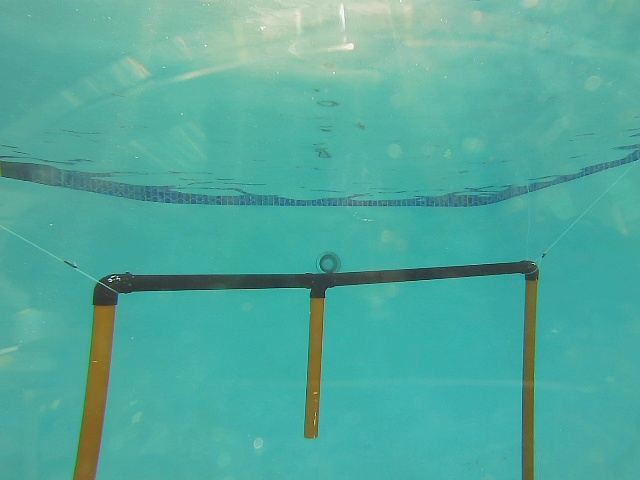Gate: (74, 300, 121, 480), (518, 274, 542, 480), (302, 291, 330, 443)
